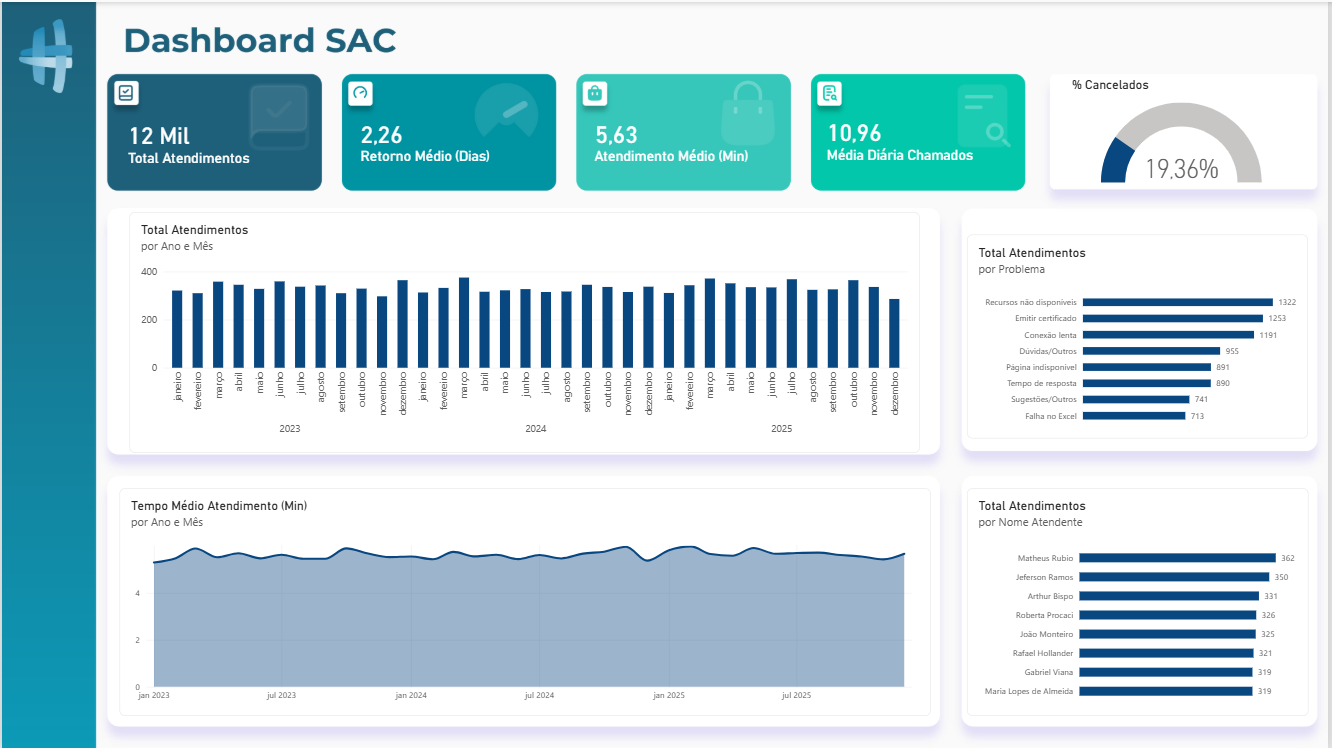

What the dashboard file says about the page in this screenshot:
{"tool":"powerbi","page":{"name":"Página 1","canvas":[1920,1080],"ordinal":0},"visuals":[{"type":"cardVisual","fields":{"Data":["fOcorrencias.Total Atendimentos"]},"box":[166.3,138.6,280.1,134.2],"z":0},{"type":"cardVisual","fields":{"Data":["fOcorrencias.Tempo Médio Retorno (Dias)"]},"box":[503.3,134.2,300.5,141.5],"z":1},{"type":"cardVisual","fields":{"Data":["fOcorrencias.Tempo Médio Atendimento (Min)"]},"box":[841.8,134.2,300.5,141.5],"z":2},{"type":"cardVisual","fields":{"Data":["fOcorrencias.Média Diária Chamados"]},"box":[1178.8,131.3,300.5,141.5],"z":3},{"type":"gauge","fields":{"Y":["fOcorrencias.% Cancelados"]},"box":[1549.4,109.4,316.6,153.2],"z":4},{"type":"columnChart","fields":{"Category":["fOcorrencias.Data Chamado.Variation.Hierarquia de datas.Ano","fOcorrencias.Data Chamado.Variation.Hierarquia de datas.Mês"],"Y":["fOcorrencias.Total Atendimentos"]},"box":[185.3,303.5,1143.8,348.7],"z":5},{"type":"stackedAreaChart","fields":{"Category":["fOcorrencias.Data Chamado.Variation.Hierarquia de datas.Ano","fOcorrencias.Data Chamado.Variation.Hierarquia de datas.Mês"],"Y":["fOcorrencias.Tempo Médio Atendimento (Min)"]},"box":[169.2,703.2,1174.5,329.7],"z":6},{"type":"clusteredBarChart","fields":{"Category":["dProblema.Problema"],"Y":["fOcorrencias.Total Atendimentos"]},"box":[1397.8,336.1,493.9,295.1],"z":7},{"type":"clusteredBarChart","fields":{"Category":["dSuporte.Nome Atendente"],"Y":["fOcorrencias.Total Atendimentos"]},"box":[1397.1,704,494,329.4],"z":8}]}

Visuals, with their boxes in screenshot pixels (x1, y1, x2, y2), scaled from the page's 1920x1080 canvas onto the 1332x748 screenshot:
cardVisual - fOcorrencias.Total Atendimentos: 115/96/310/189
cardVisual - fOcorrencias.Tempo Médio Retorno (Dias): 349/93/558/191
cardVisual - fOcorrencias.Tempo Médio Atendimento (Min): 584/93/792/191
cardVisual - fOcorrencias.Média Diária Chamados: 818/91/1026/189
gauge - fOcorrencias.% Cancelados: 1075/76/1295/182
columnChart - fOcorrencias.Data Chamado.Variation.Hierarquia de datas.Ano x fOcorrencias.Data Chamado.Variation.Hierarquia de datas.Mês: 129/210/922/452
stackedAreaChart - fOcorrencias.Data Chamado.Variation.Hierarquia de datas.Ano x fOcorrencias.Data Chamado.Variation.Hierarquia de datas.Mês: 117/487/932/715
clusteredBarChart - dProblema.Problema x fOcorrencias.Total Atendimentos: 970/233/1312/437
clusteredBarChart - dSuporte.Nome Atendente x fOcorrencias.Total Atendimentos: 969/488/1312/716
